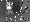person: (7, 3, 14, 15)
